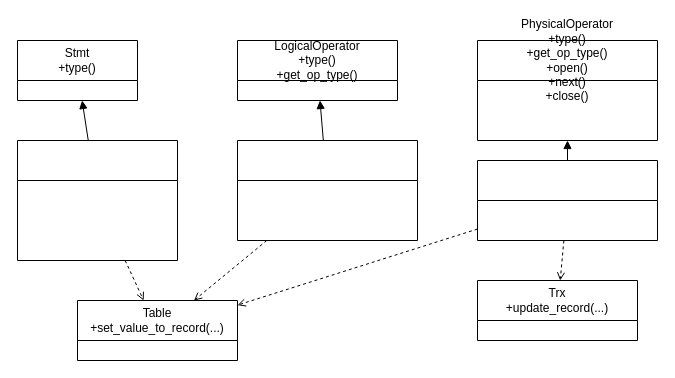
Some shapes in this 675 by 378 pixel diagram are drawn without their labels. Each missing label, with the centre of its shape:
UpdateLogicalOperator +table() +field_name() +value(): the point at 327,190
UpdatePhysicalOperator +open() +next() +close(): the point at 567,200
UpdateStmt +create(...) +table() +attribute_name() +value() +filter_stmt(): the point at 97,200
